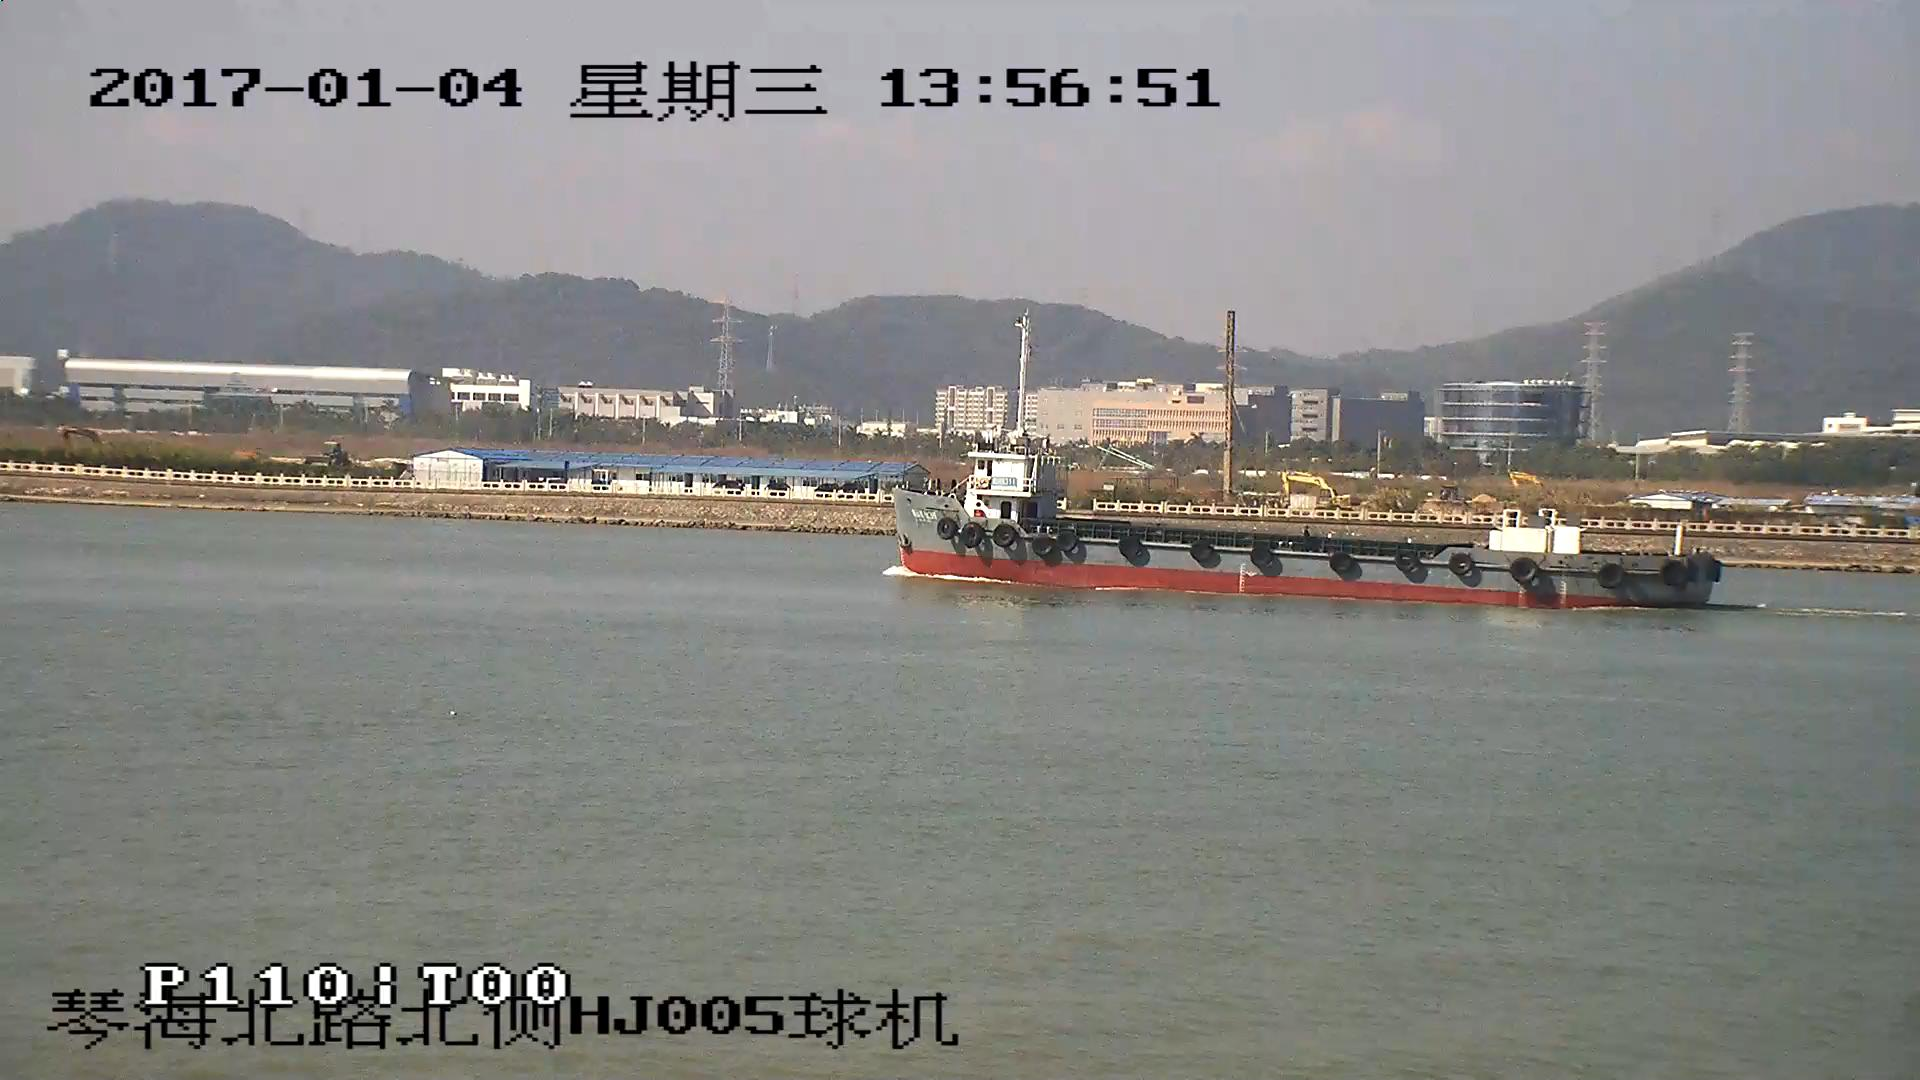general cargo ship: (899, 433, 1722, 615)
